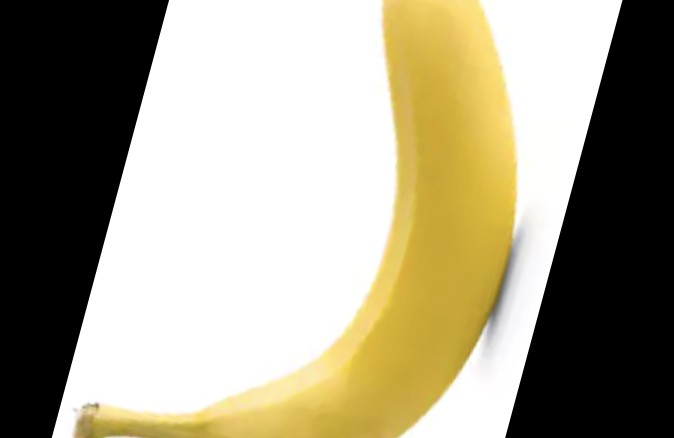fresh_banana: (76, 1, 517, 438)
